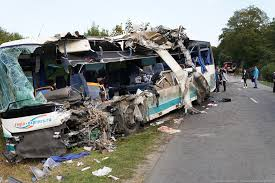car: (10, 33, 225, 141)
